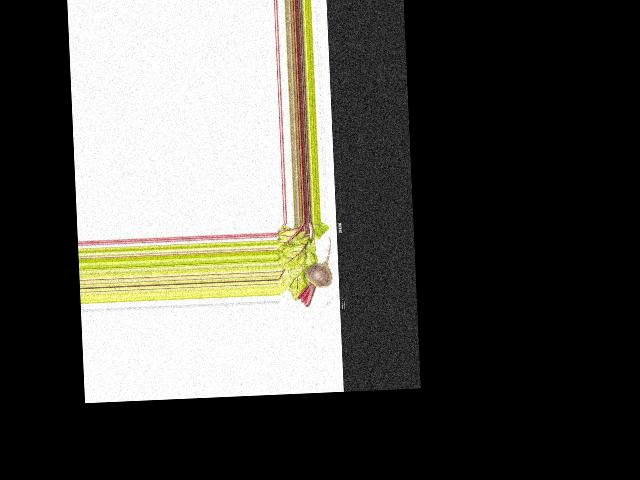beet: (295, 236, 334, 307)
